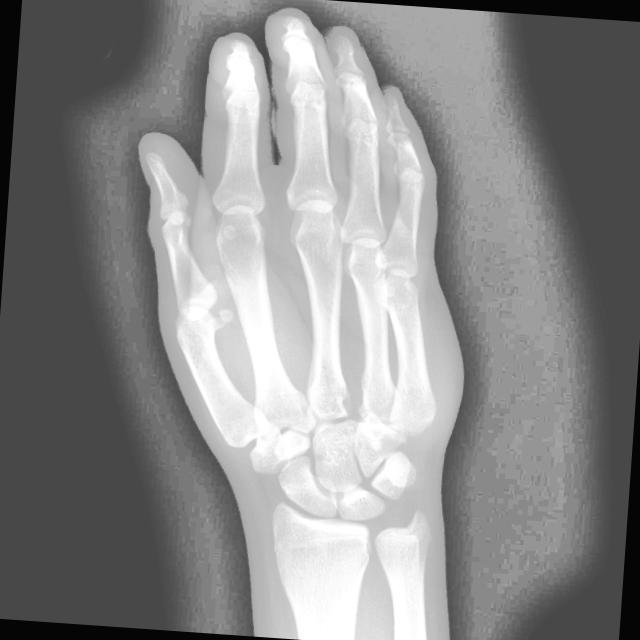Fracture Dislocation: (372, 246, 428, 314)
